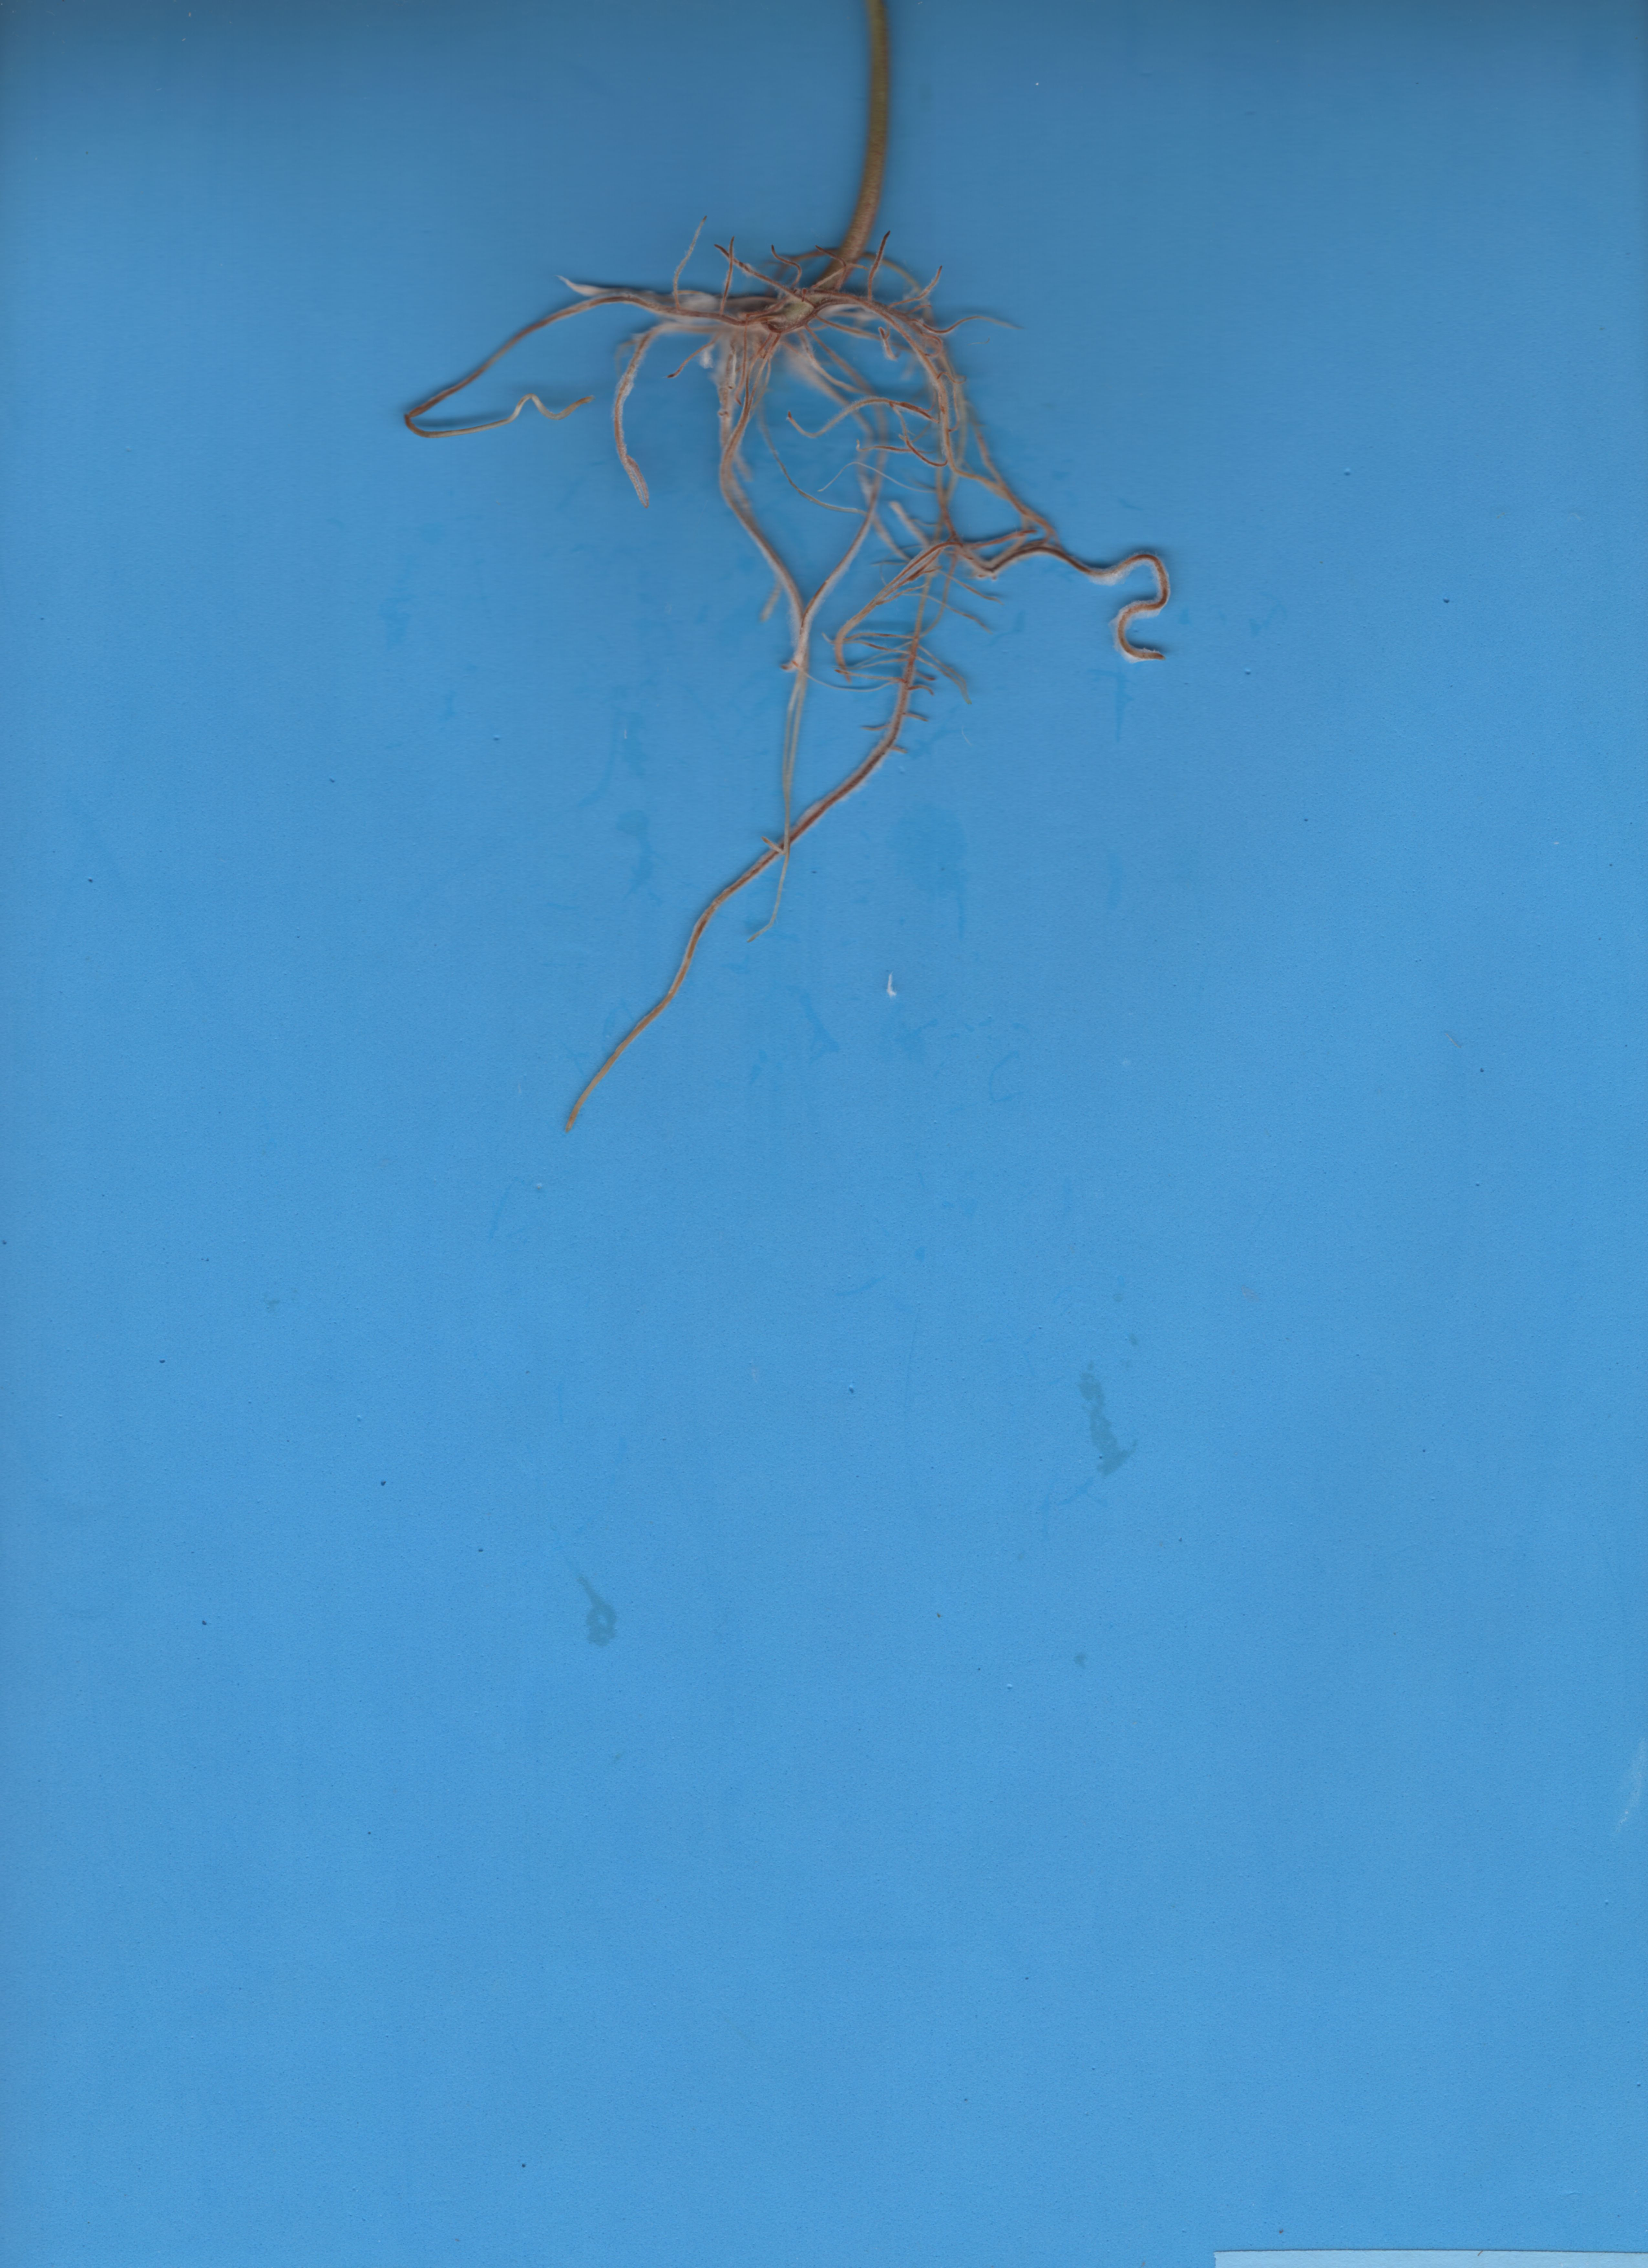CROWNDISEASE: (794, 0, 945, 275)
ROOTDISEASE: (259, 259, 1252, 1190)
